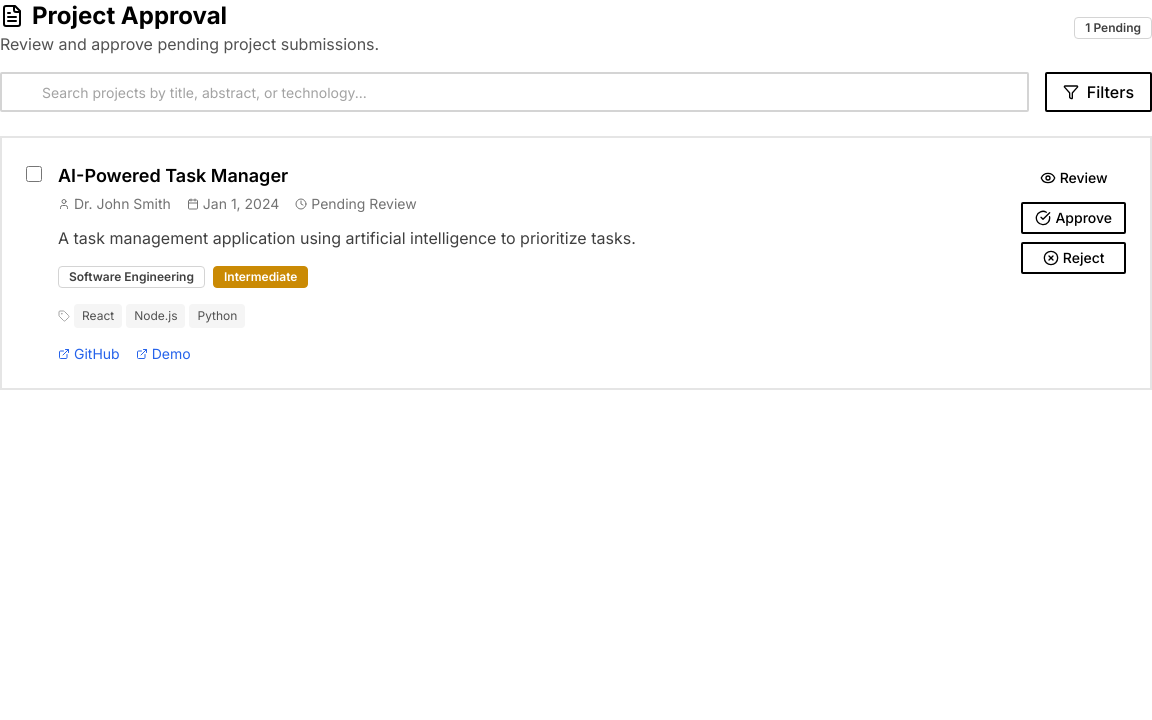
ProjectApproval › opens project review modal when review button is clicked
Click the button "Review": coordinates (1074, 178) [1021,162,1126,194]
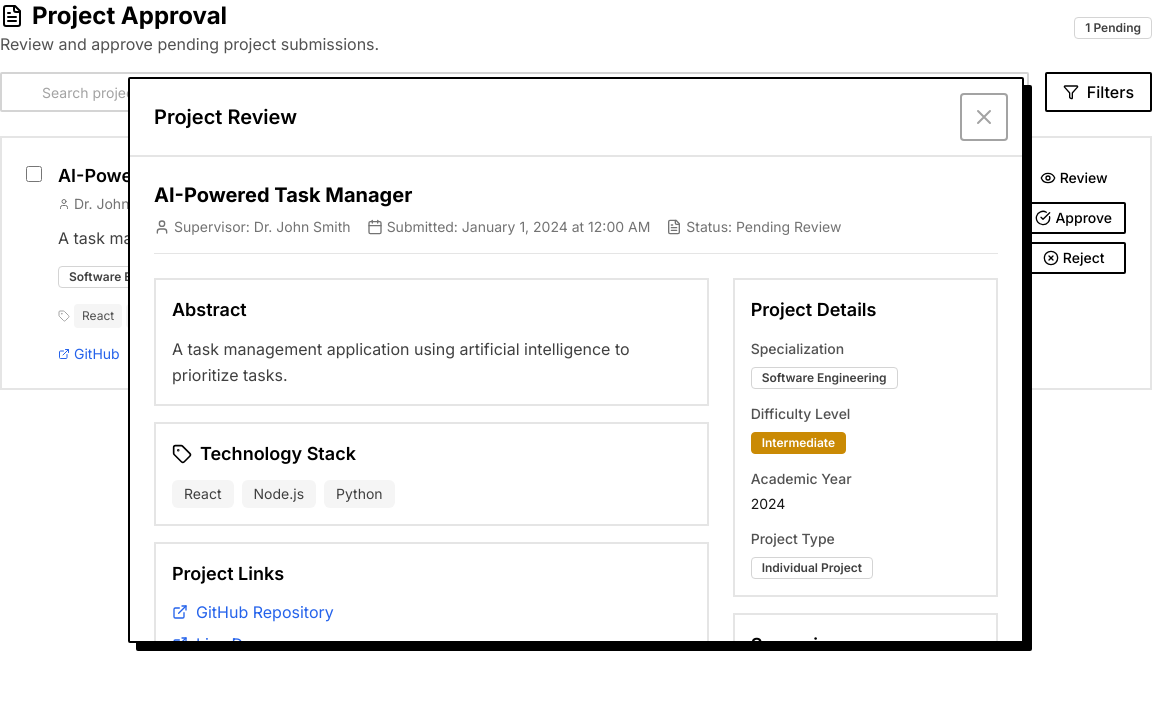
Expected: the heading "Project Review" is shown, [154,105,297,129]
